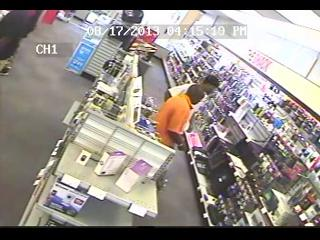Normal: (154, 74, 220, 152)
